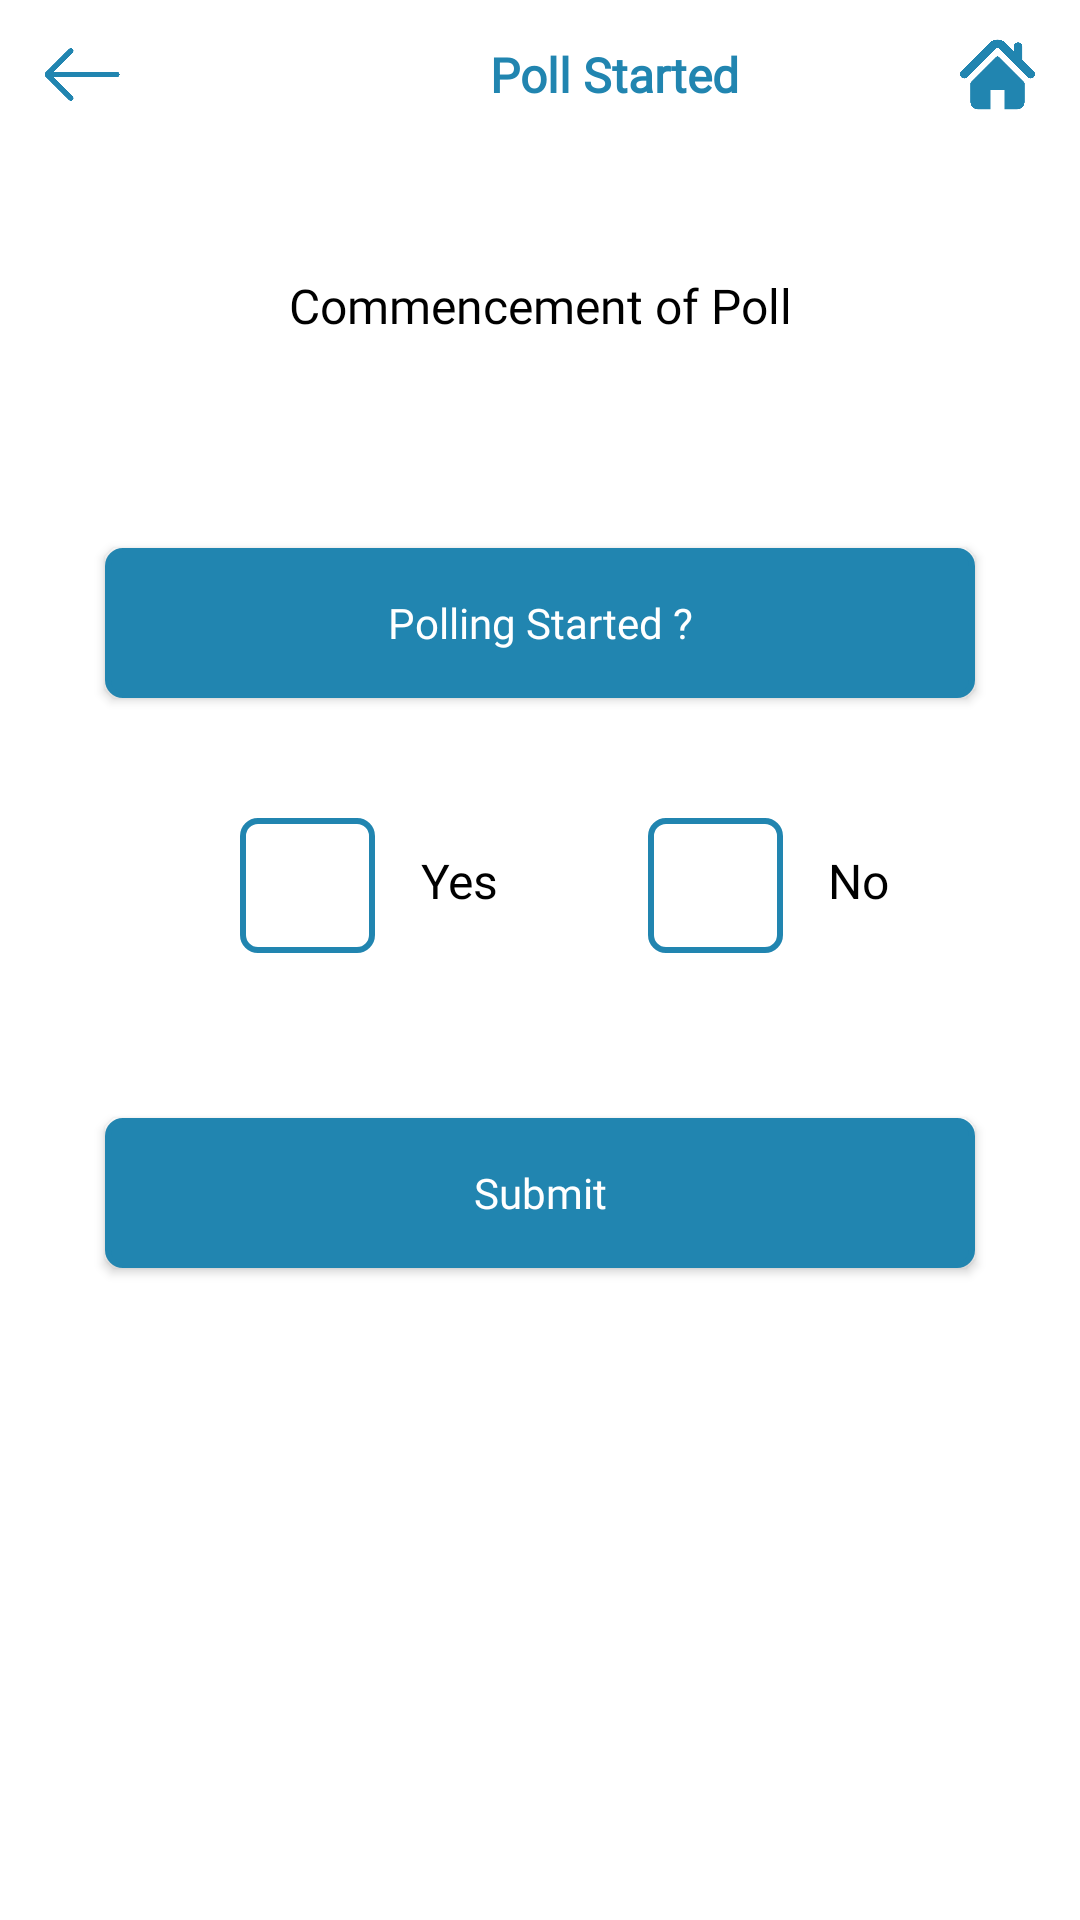

Where to tap for icons on this 1080px x 1920px app screen, as (x,y):
back: (82,74)
home: (997,74)
